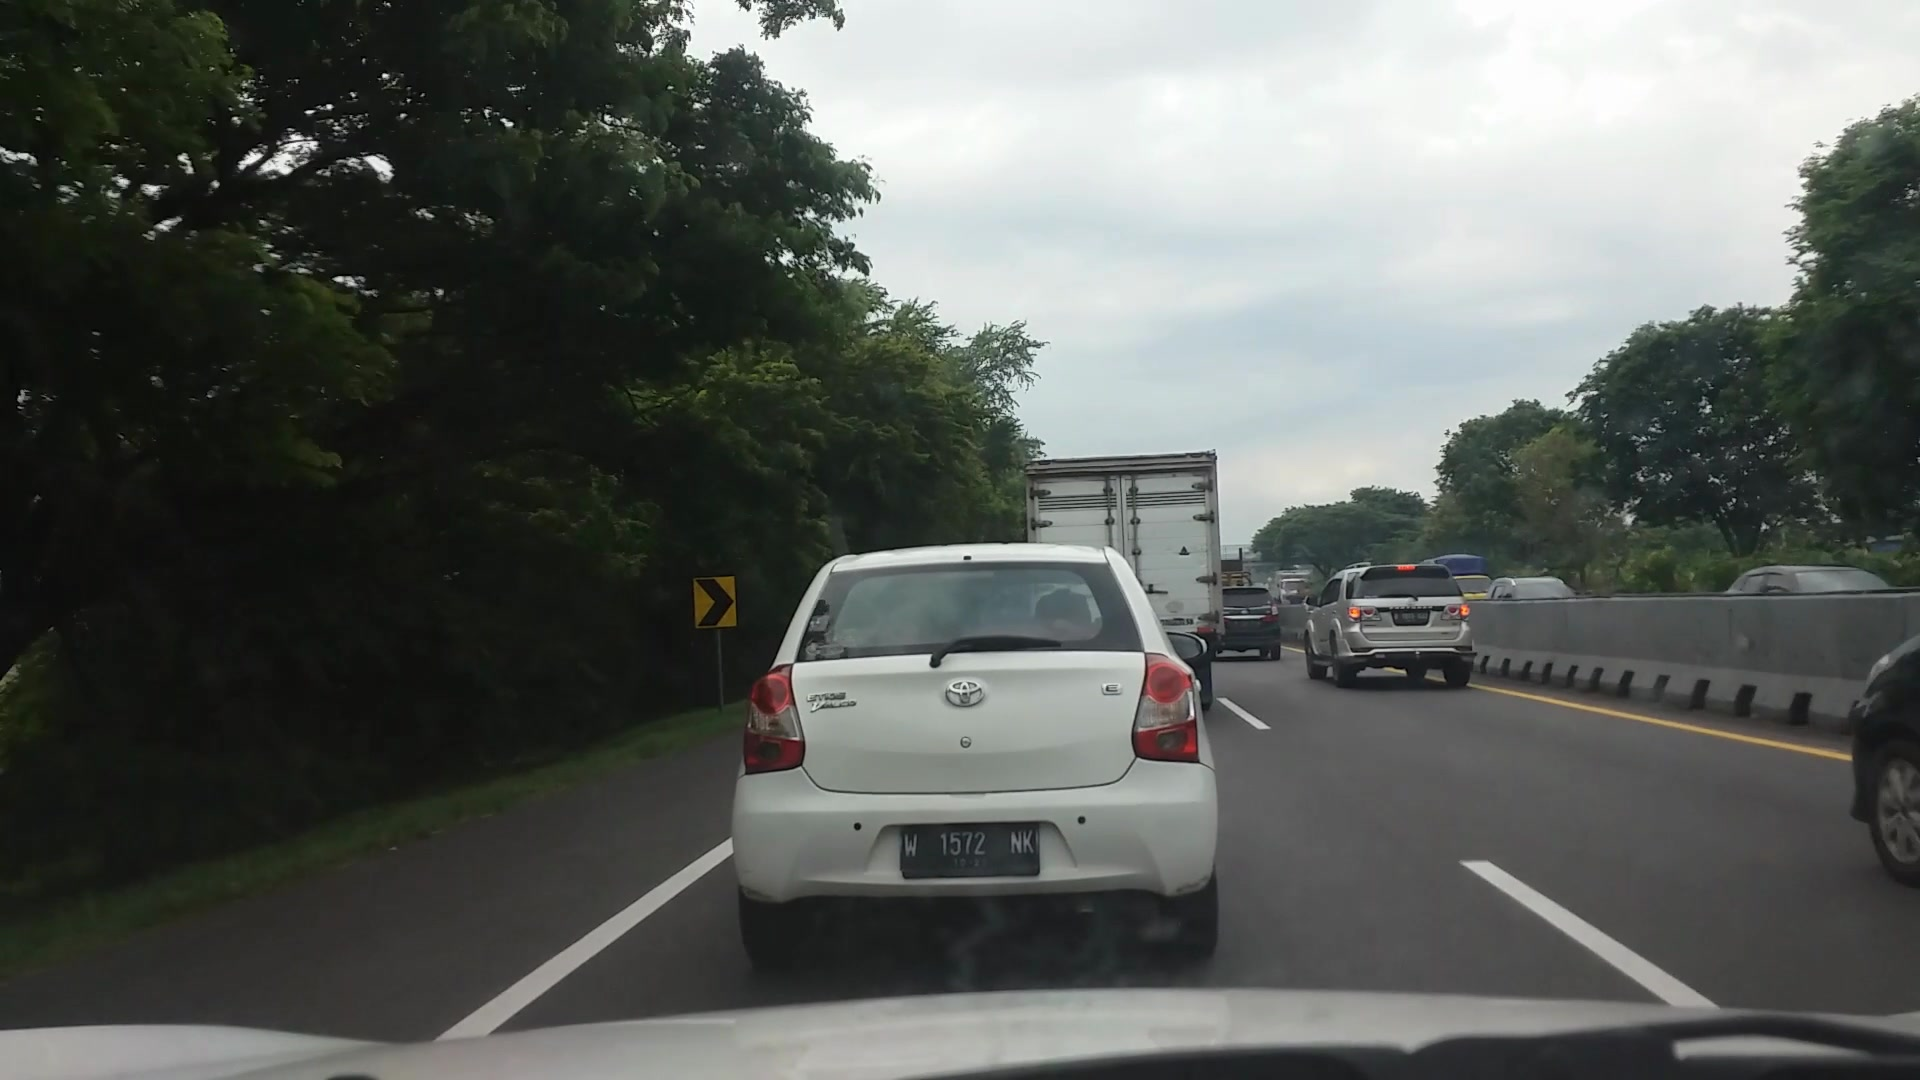plate_positive: (899, 822, 1042, 880)
